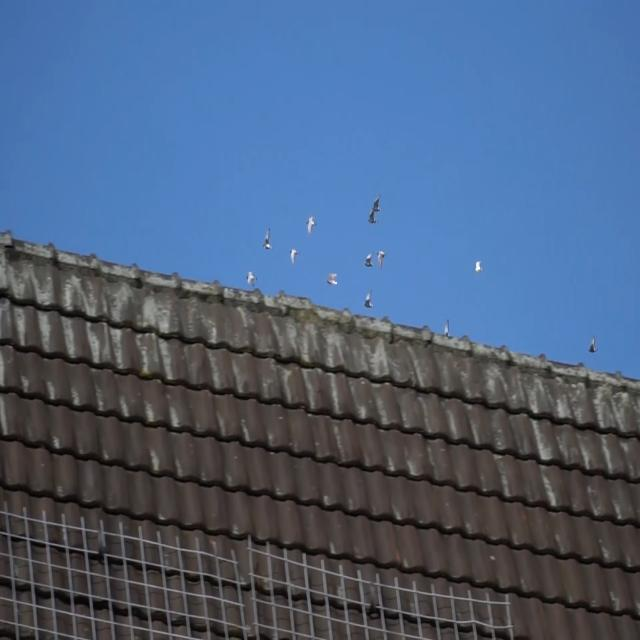bird: (261, 225, 274, 253), (305, 213, 318, 236), (363, 248, 374, 271), (376, 248, 387, 270), (587, 333, 597, 357), (245, 270, 258, 288), (288, 246, 300, 265), (372, 192, 382, 214), (366, 206, 378, 224), (363, 289, 373, 309), (326, 272, 338, 287), (474, 258, 483, 276), (443, 318, 451, 337)
